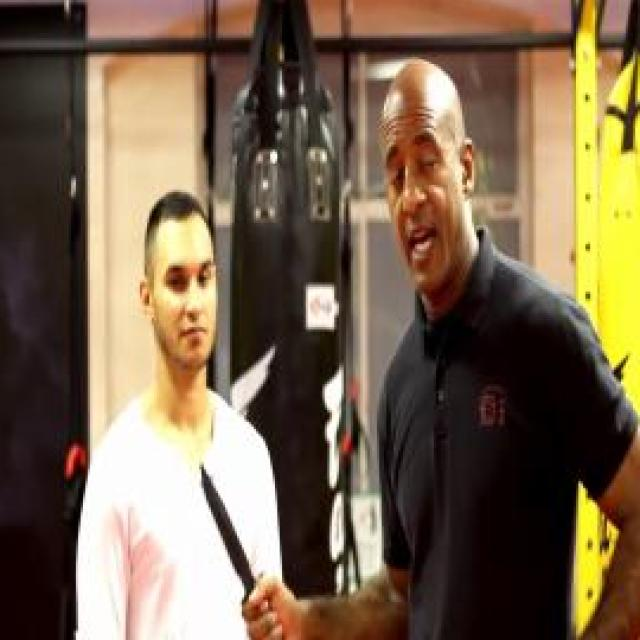knife: (194, 452, 289, 640)
